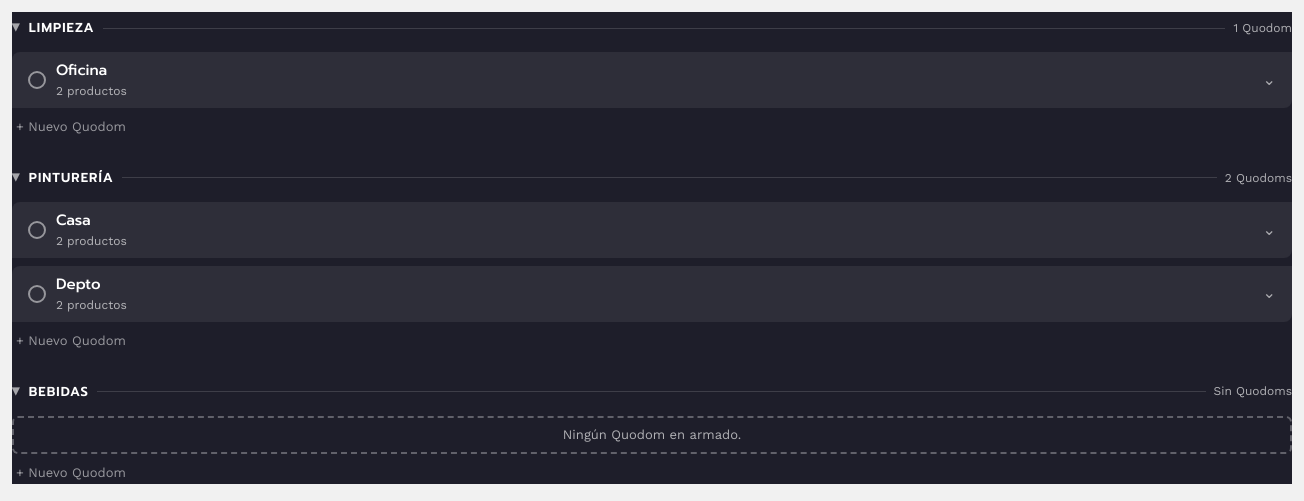
it: ArbolQuodoms › plegar un rubro esconde sus Quodoms
Click the button "▶ PINTURERÍA 2 Quodoms" at (71, 177), box [12,162,1292,194]
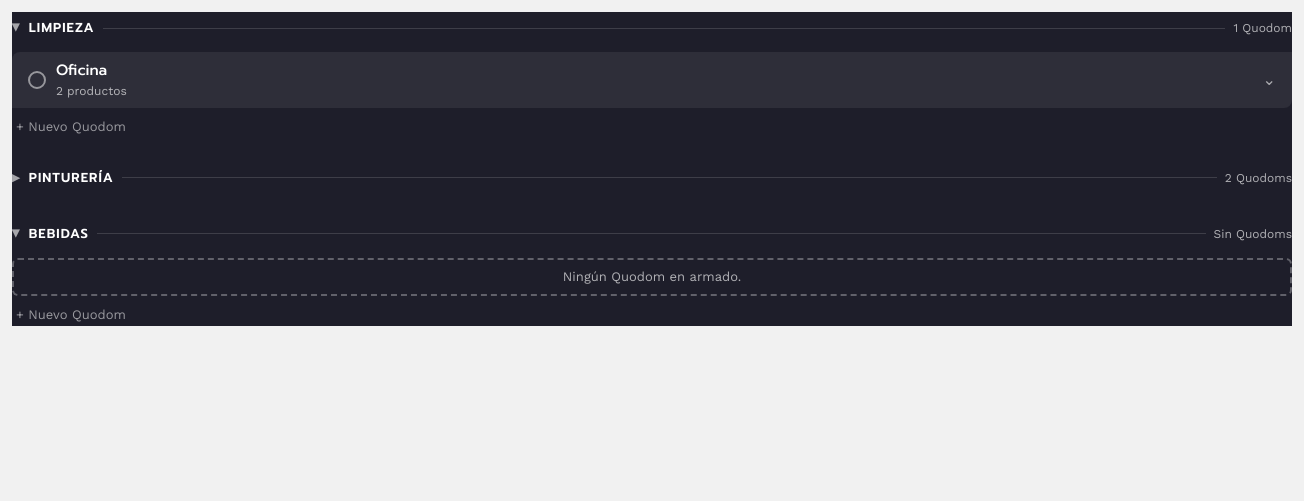
Expected: the button "Casa" is gone
